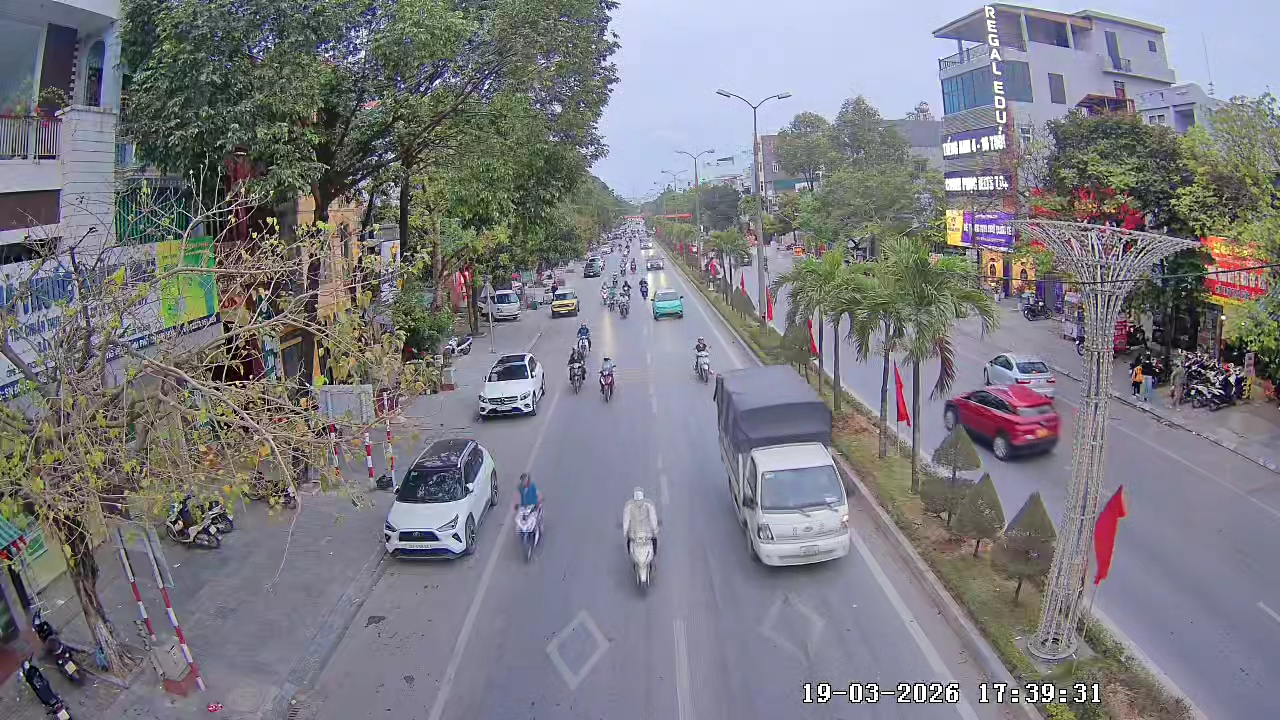car: (382, 437, 501, 561), (951, 382, 1062, 461), (475, 350, 547, 420), (984, 352, 1057, 400), (651, 286, 686, 320), (549, 288, 580, 318)
motorbike: (618, 485, 665, 598), (510, 469, 548, 564), (566, 343, 589, 394), (690, 334, 713, 384), (598, 352, 619, 404), (573, 325, 592, 355), (618, 285, 633, 319)
truck: (711, 363, 852, 569)
